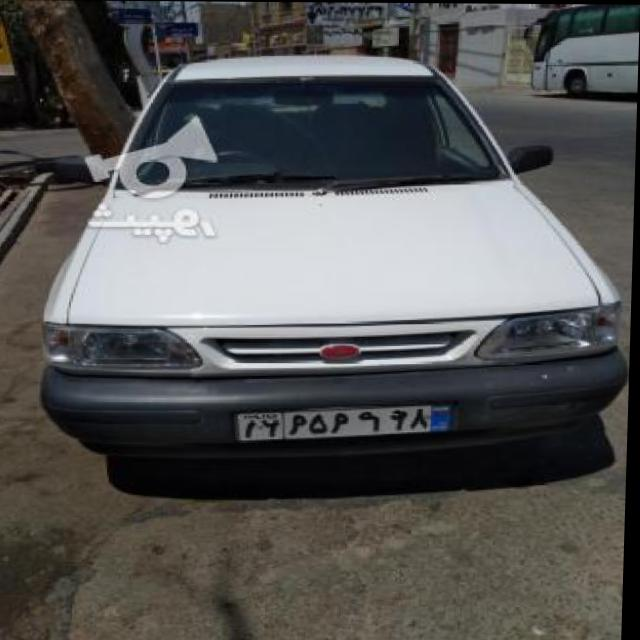licence: (242, 401, 466, 440)
